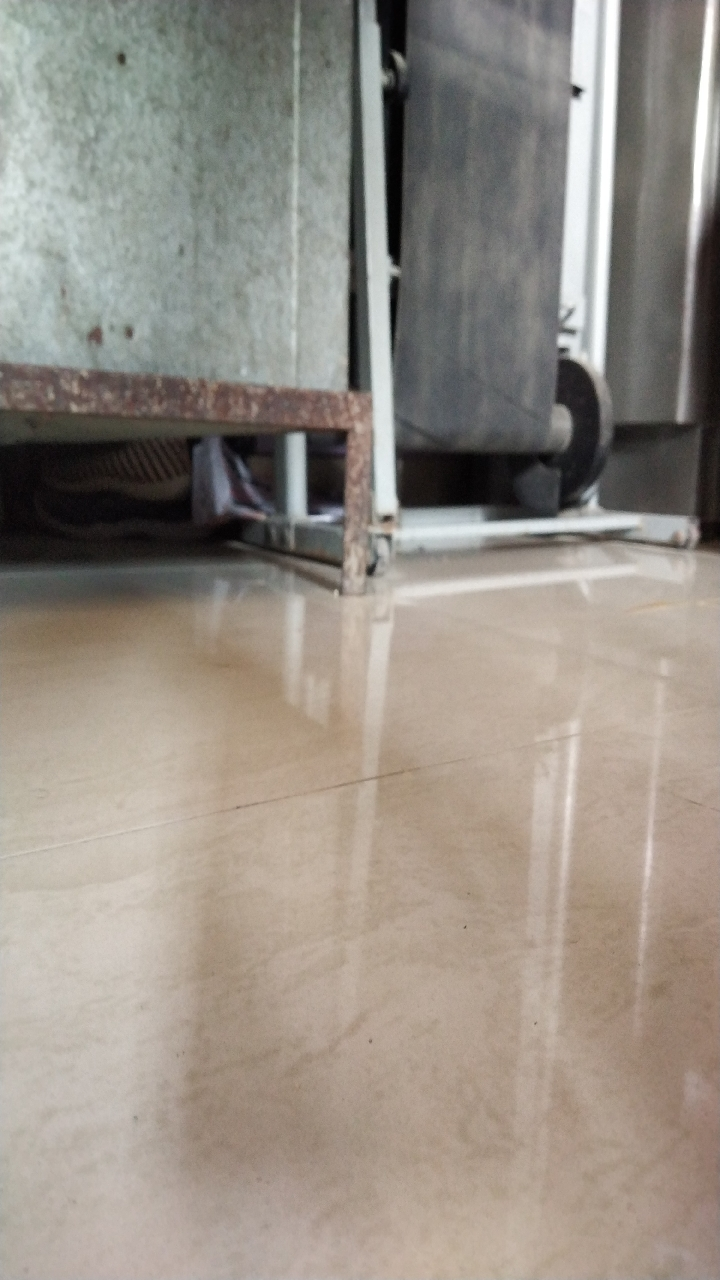Furnitures: (375, 285, 720, 575), (97, 298, 378, 606)
